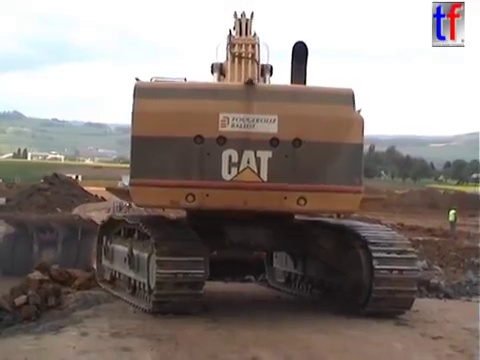excavator: (91, 7, 424, 322)
truck: (1, 182, 169, 285)
worker: (444, 203, 460, 233)
